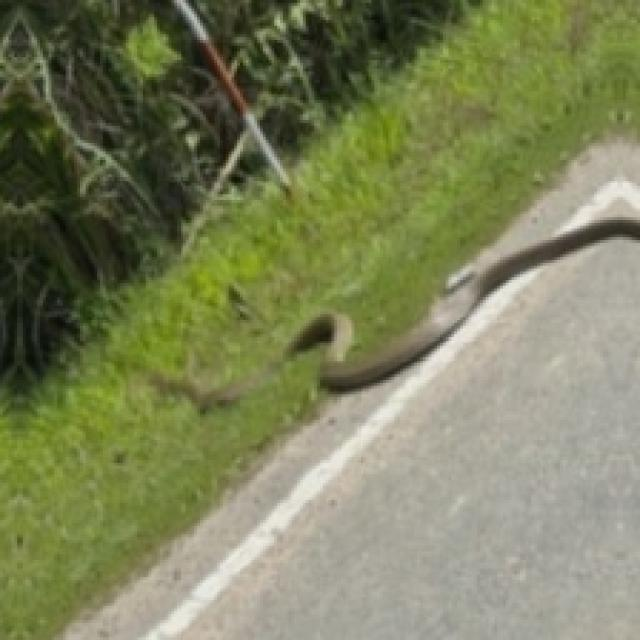king cobra: (154, 217, 637, 406)
